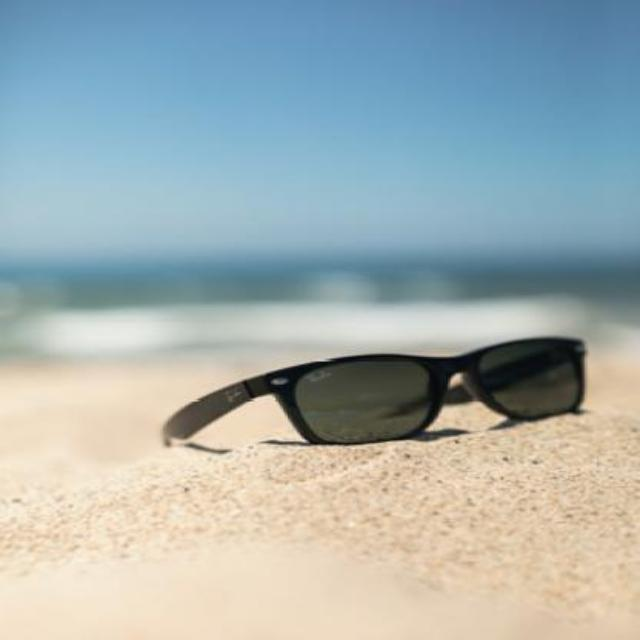sunglasses: (163, 335, 587, 447)
